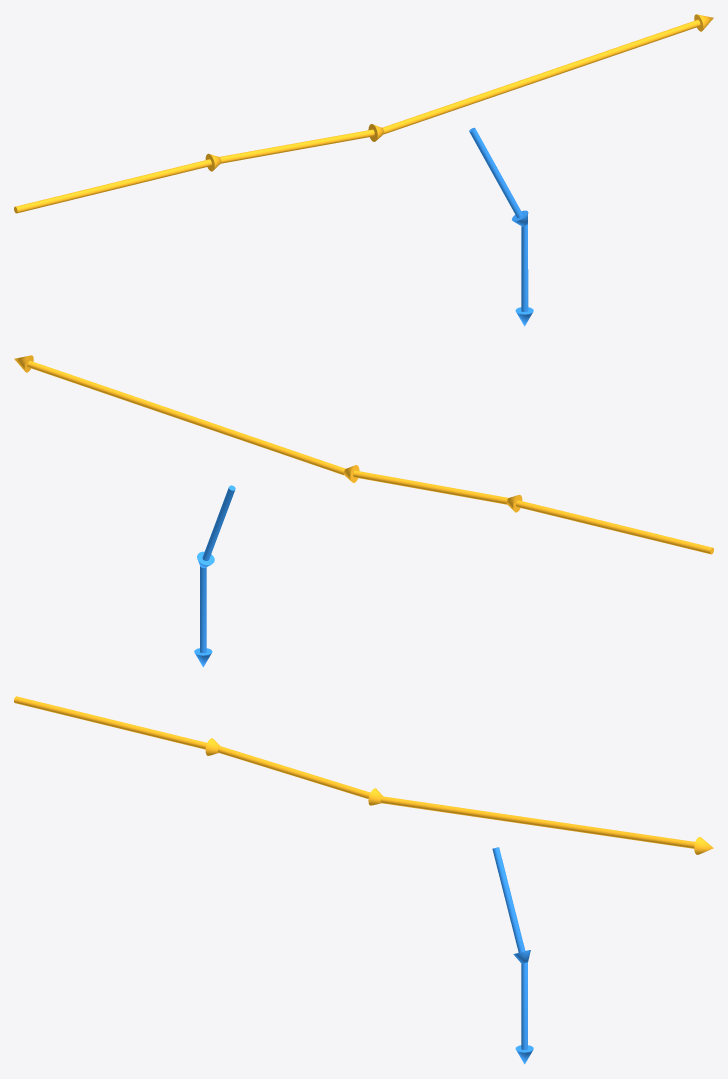
The model's file is coalescer_flow.glb.
The picture shows the model from 3 angles, top to bottom: view 1: azimuth 30°, elevation 25°; view 2: azimuth 150°, elevation 25°; view 3: azimuth 330°, elevation 25°; orthographic projection.
Visible parts, largest first — view 1: feed, water; view 2: feed, water; view 3: feed, water.
Boxes of the visible parts, box(x1,y1,x2,y2) form: feed: box(14, 14, 713, 213); water: box(469, 127, 533, 326); feed: box(14, 355, 713, 554); water: box(194, 485, 235, 667); feed: box(14, 696, 713, 854); water: box(492, 847, 533, 1064).
Bounding box in the file's own units: 3.43 × 1.26 × 0.1537.
